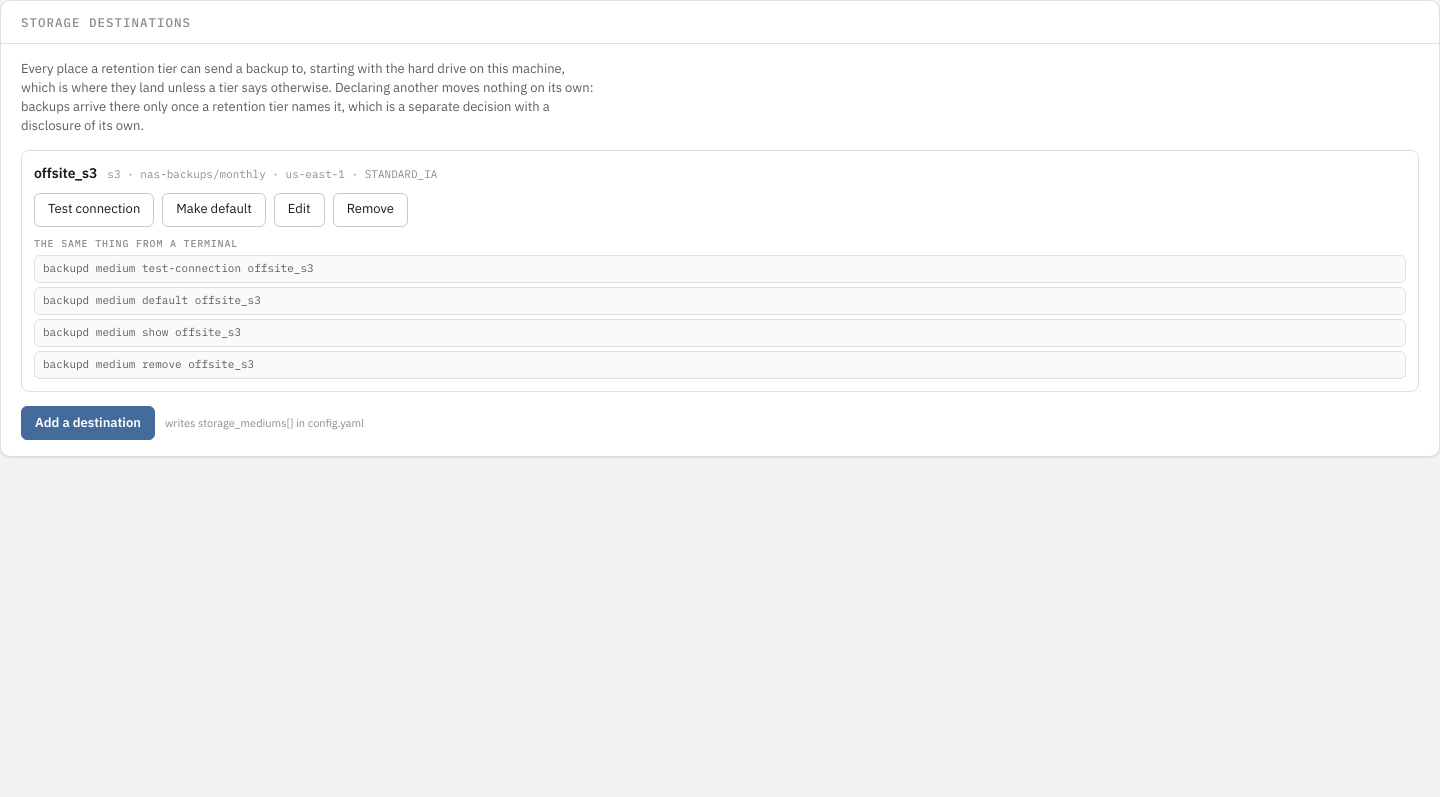
Test case: re-testing a destination backups already live on (FR-30) › changes no state, names the count, and lists the sets
Click the button "Test connection". click: (94, 210)
box: [34,193,154,227]
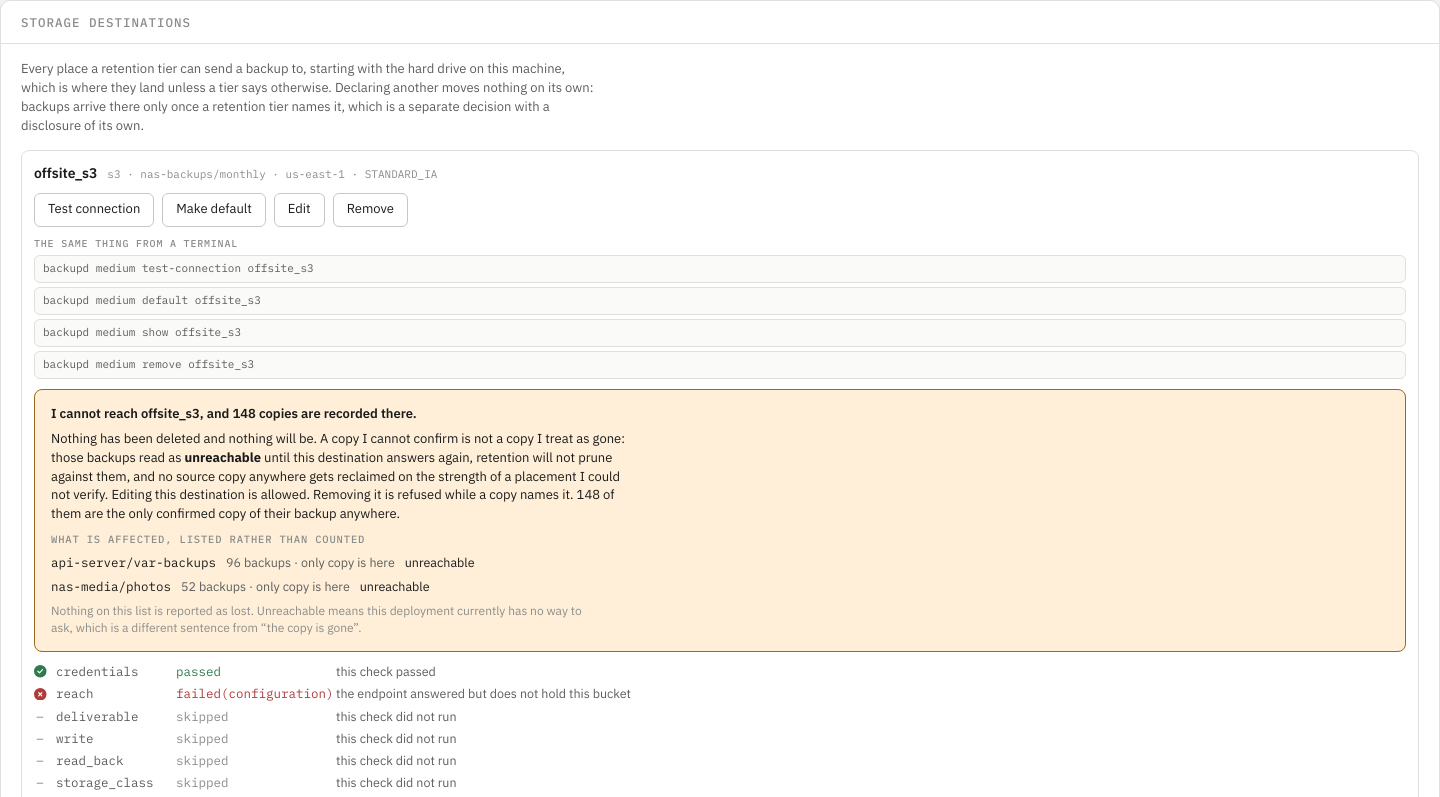
Result: the text "148 copies are recorded there" is shown at [51,405,417,422]
Result: the text "Nothing has been deleted and nothing will be" is shown at [51,430,625,466]
Result: the text "unreachable" is shown at [185,449,261,466]
